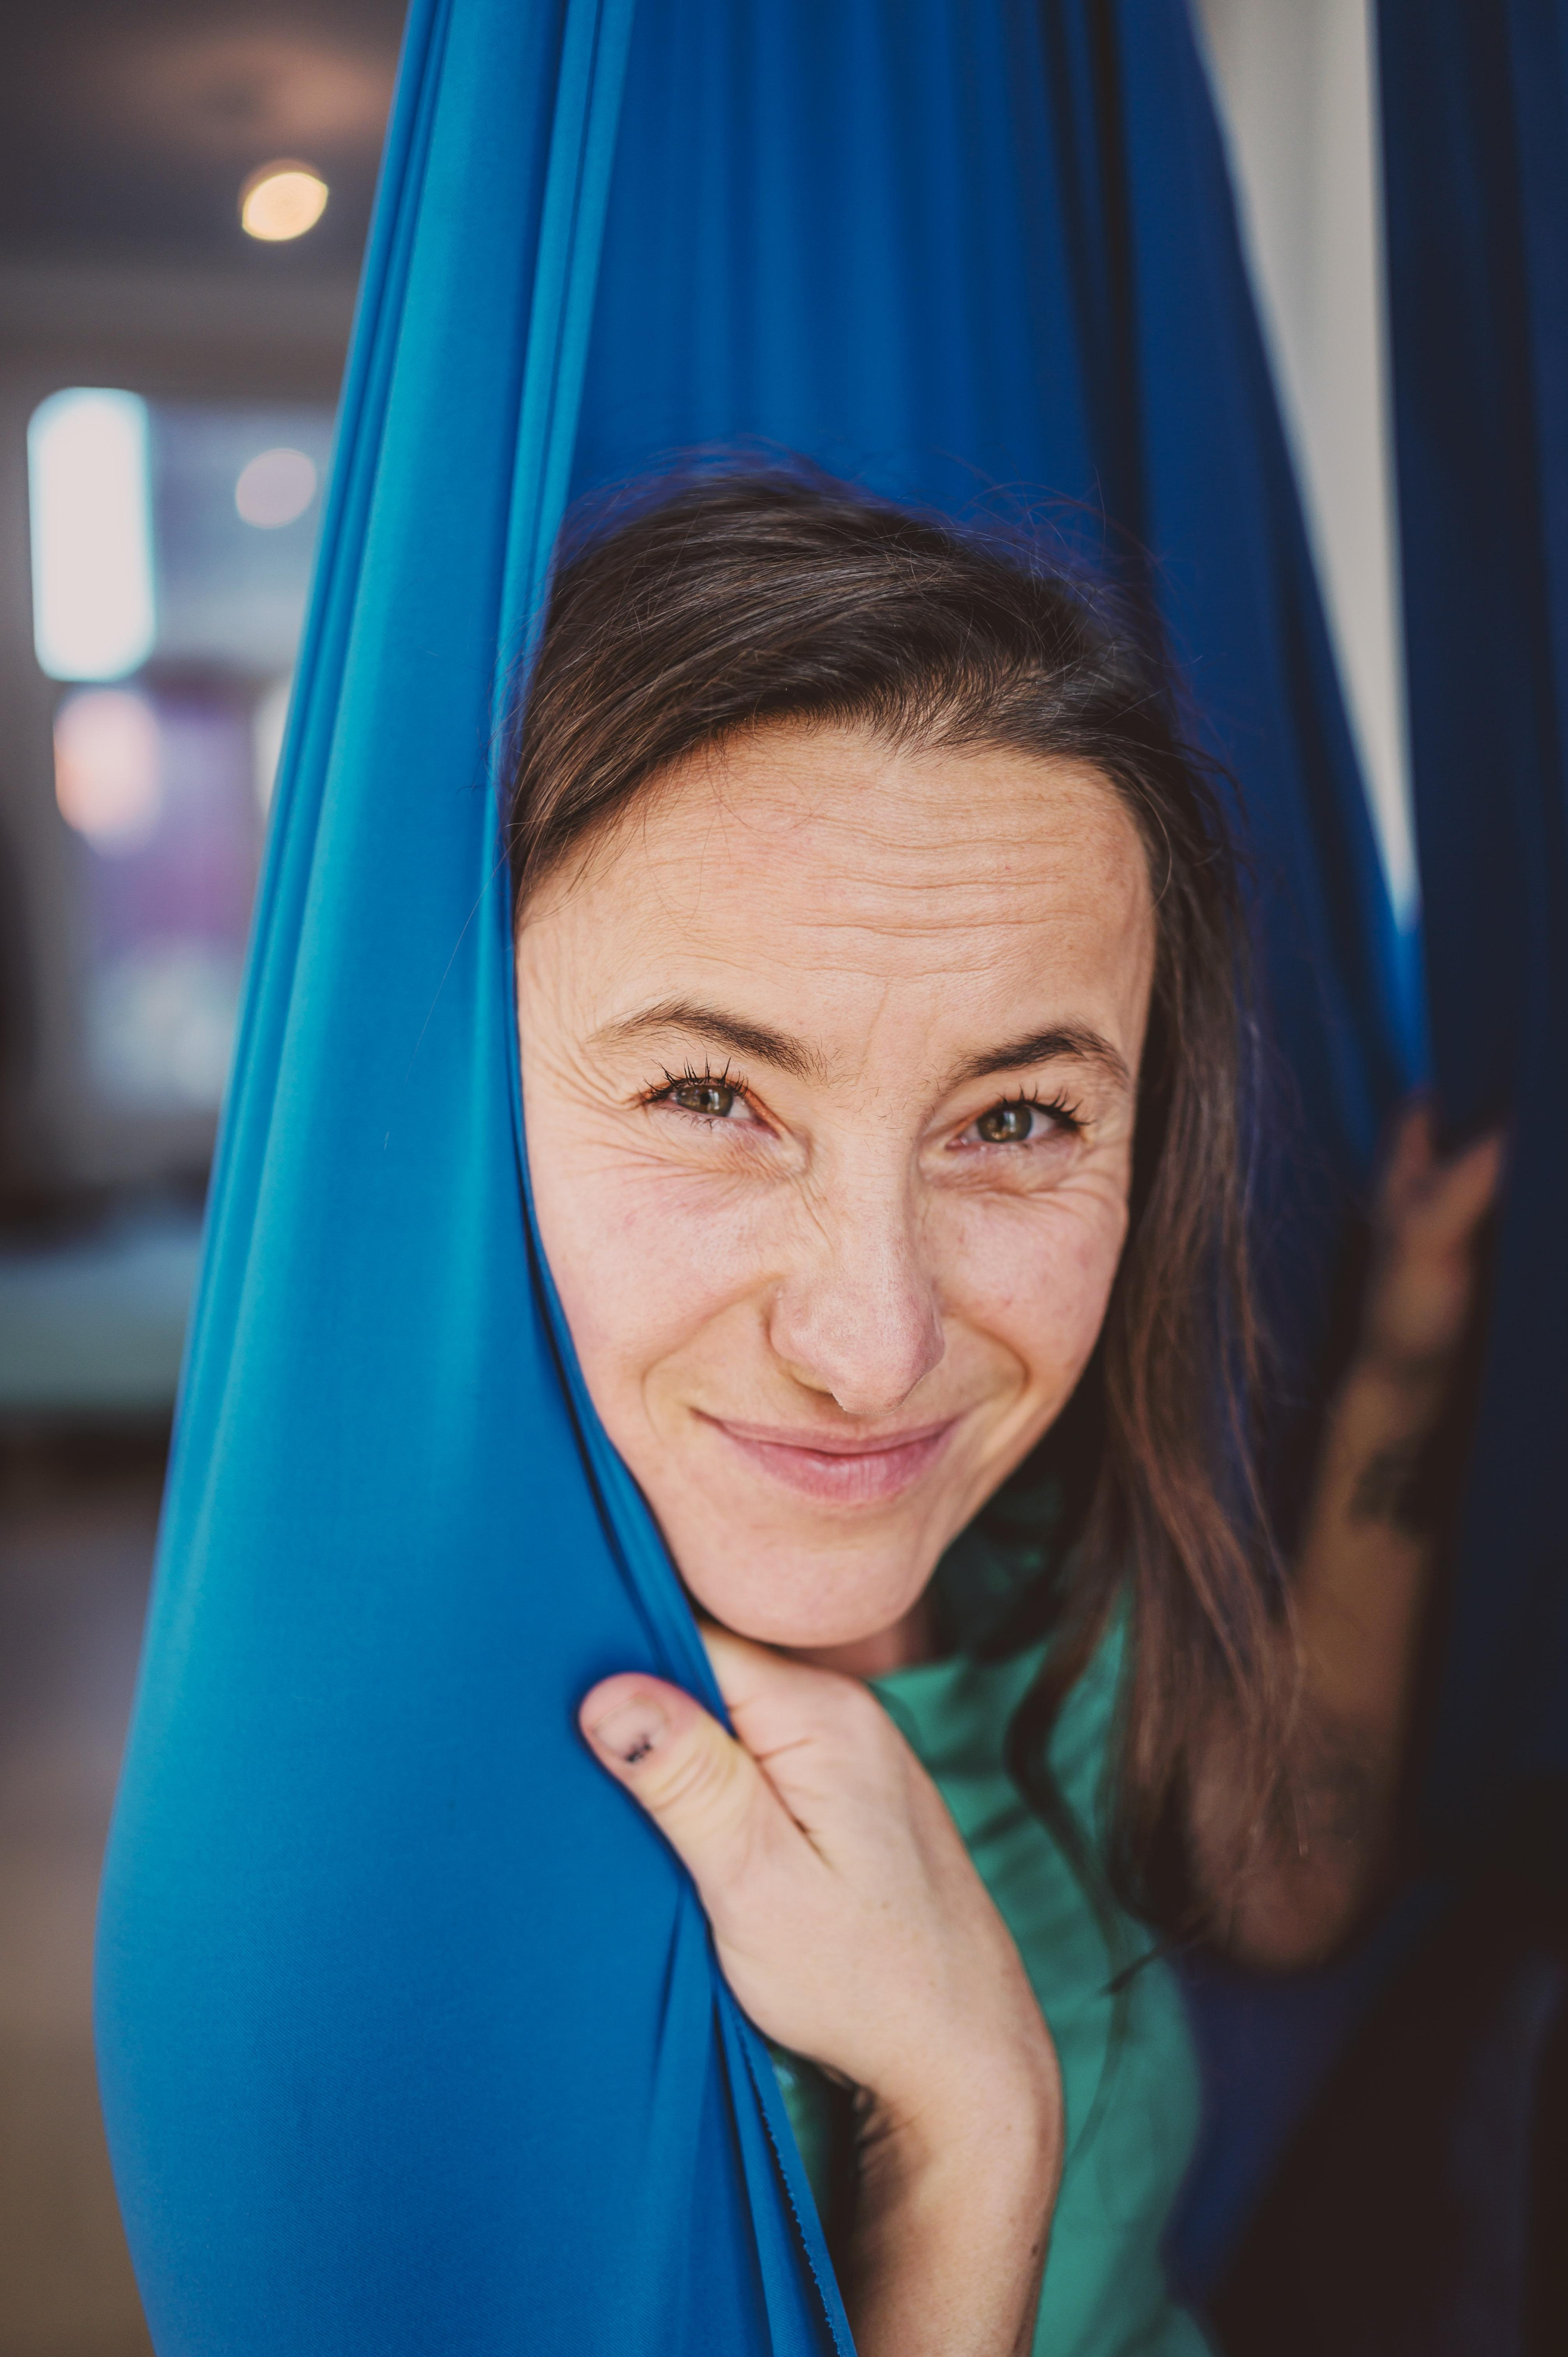Wrinkles: (563, 1046, 621, 1108), (808, 875, 1050, 889), (798, 1181, 833, 1253), (857, 990, 884, 1081), (1050, 1190, 1122, 1218), (773, 959, 885, 976), (794, 924, 929, 936), (885, 842, 1071, 850), (898, 920, 1076, 929), (583, 1141, 658, 1158), (912, 969, 985, 978), (656, 1172, 724, 1179)
